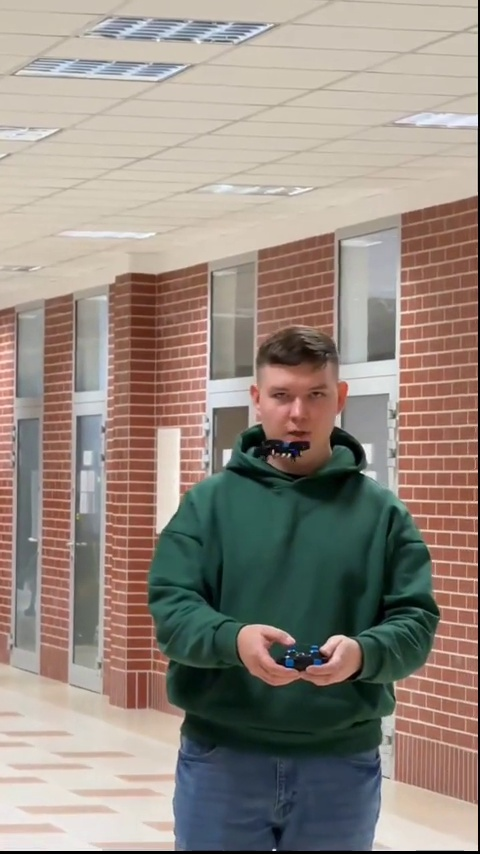drone: (260, 440, 312, 463)
no vest: (139, 328, 439, 854)
